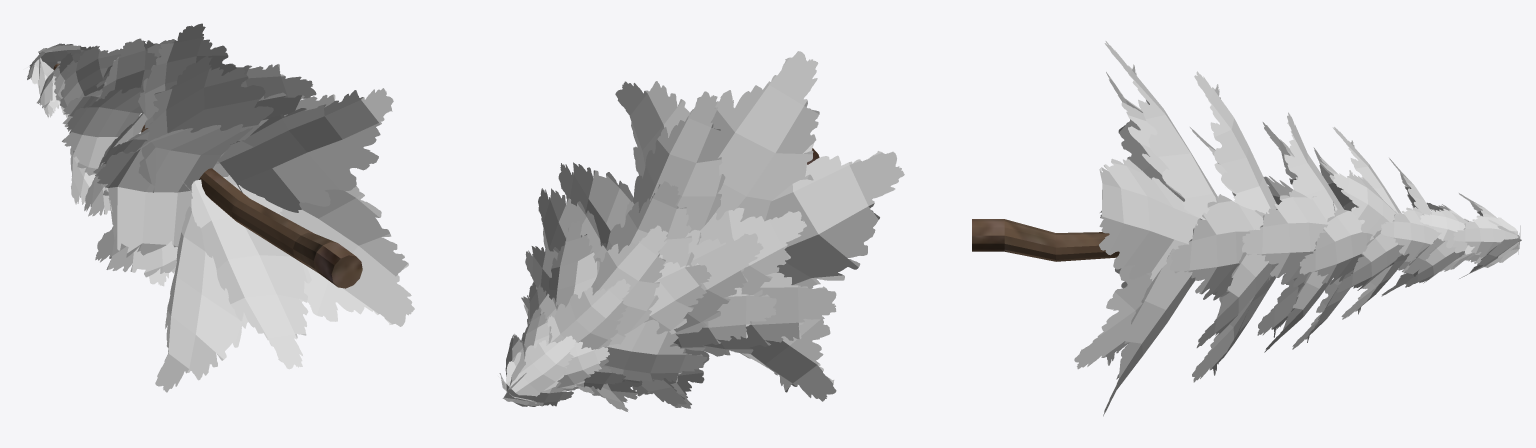
The model's file is Tree1.fbx.
3 renders of one model, left to right at view 1: azimuth 30°, elevation 25°; view 2: azimuth 150°, elevation 25°; view 3: azimuth 270°, elevation 25°, orthographic. The views are drawn at different scales.
Visible parts, largest first — view 1: Tree1Merged; view 2: Tree1Merged; view 3: Tree1Merged.
Boxes of the visible parts, left/top/right/bottom form: Tree1Merged: left=23, top=23, right=414, bottom=392; Tree1Merged: left=498, top=51, right=904, bottom=411; Tree1Merged: left=972, top=41, right=1521, bottom=416.
Size of the model in its own units: 1164 by 1102 by 1514.
Materials: 2 (1 with a texture image).
